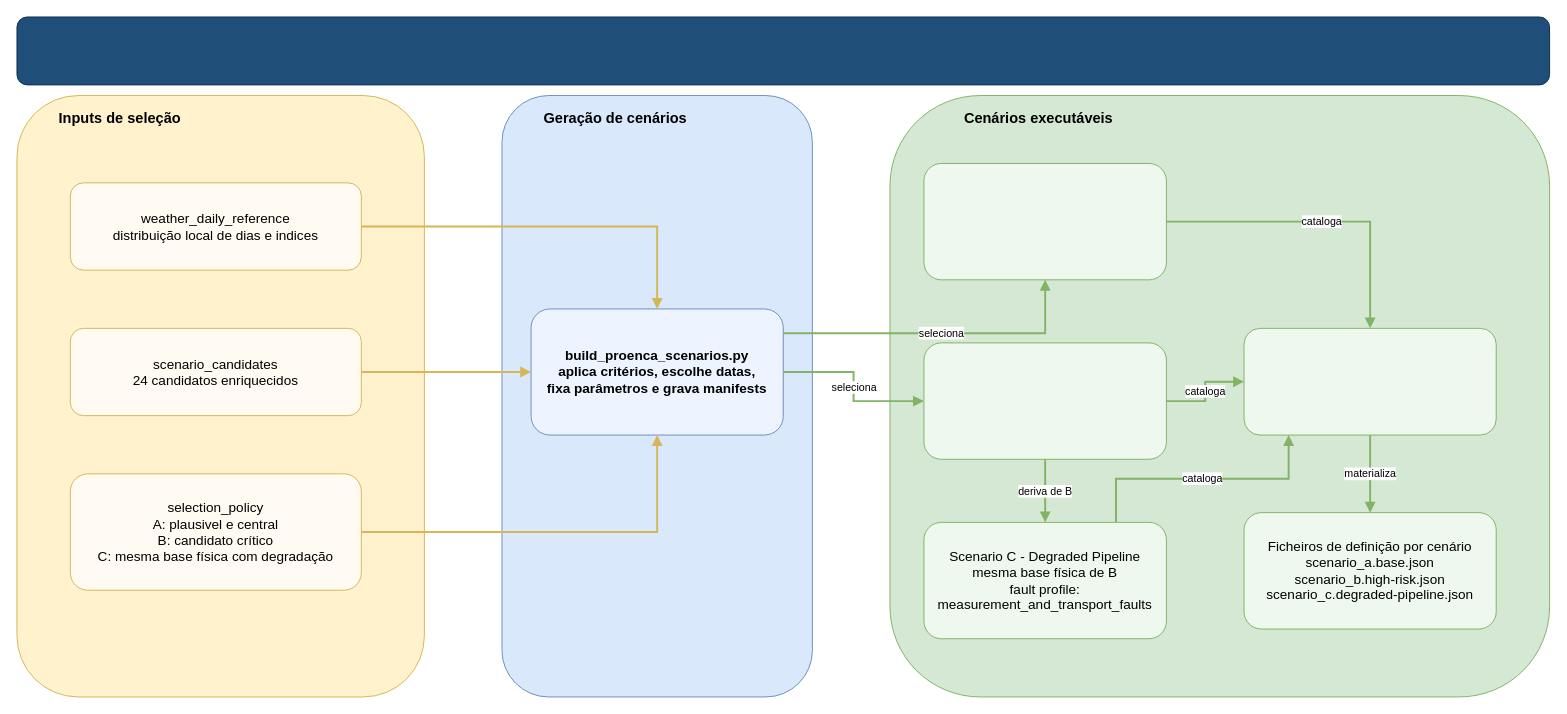
Some shapes in this 1567 by 714 pixel diagram are drawn without their labels. Here are the shapes that lost their labels. From the top down, the centre of each, then its label:
At (783,50): "Construção e formalização de cenários".
At (1044,221): "Scenario A - Base 2017-06-01 FWI 18.597 | KBDI 185.259 fault profile: none".
At (1044,400): "Scenario B - High Risk 2020-09-13 FWI 65.377 | KBDI 650.106 fault profile: none".
At (1369,381): "Catálogo gerado proenca-a-nova-scenarios.generated.json".
